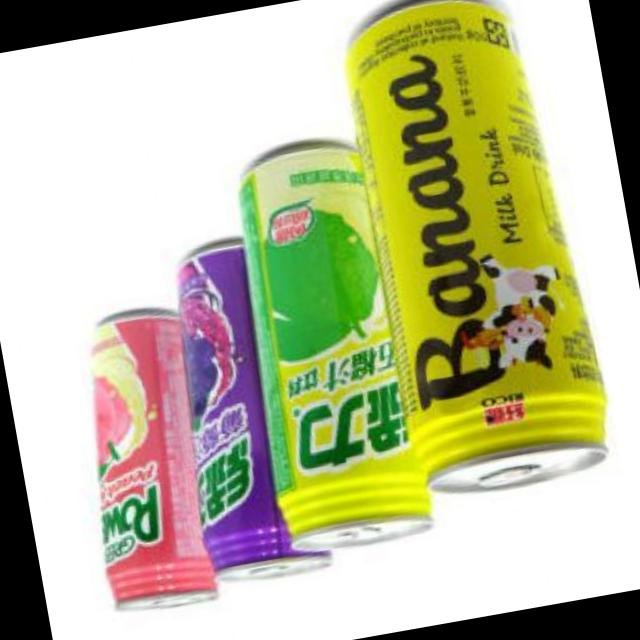metal: (348, 1, 608, 492), (239, 144, 432, 549), (176, 239, 330, 580), (91, 311, 217, 608)
